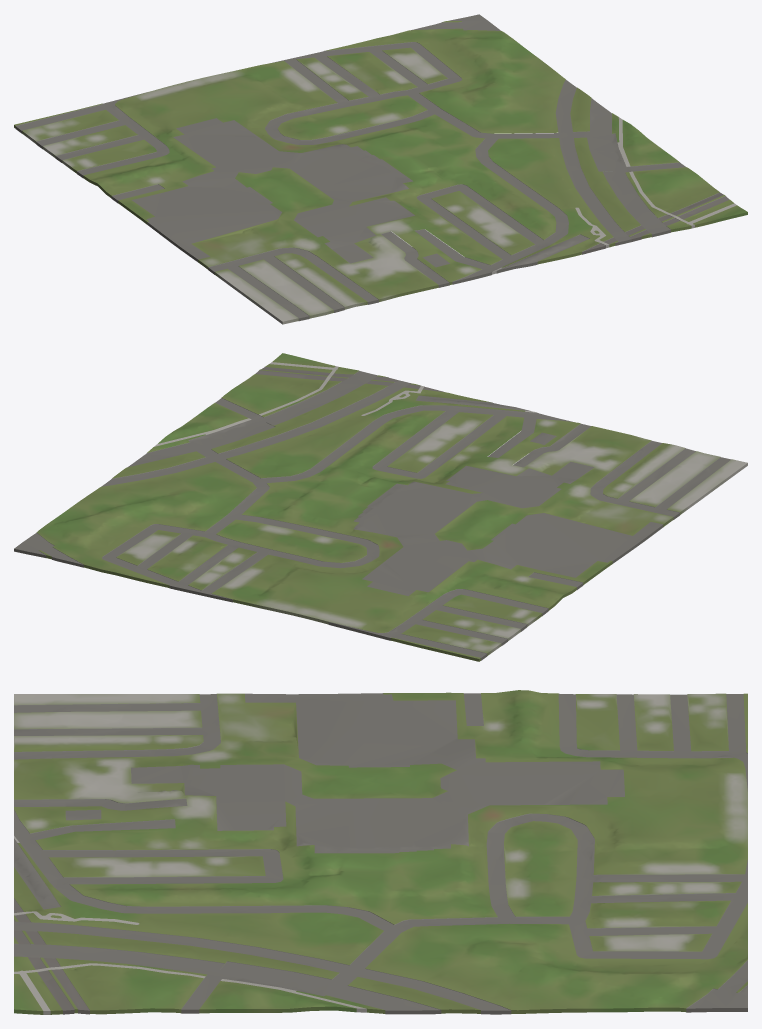
3 renders of one model, top to bottom at view 1: azimuth 30°, elevation 25°; view 2: azimuth 150°, elevation 25°; view 3: azimuth 270°, elevation 25°, orthographic. The views are drawn at different scales.
Visible parts, largest first — view 1: T--3--4.L2:utd:matte; view 2: T--3--4.L2:utd:matte; view 3: T--3--4.L2:utd:matte.
Part boxes in pixels (x1,y1,x2,y2): T--3--4.L2:utd:matte: [14, 14, 747, 324]; T--3--4.L2:utd:matte: [14, 353, 747, 661]; T--3--4.L2:utd:matte: [14, 690, 747, 1014].
Bounding box in the file's own units: 256 × 5.83 × 256.
